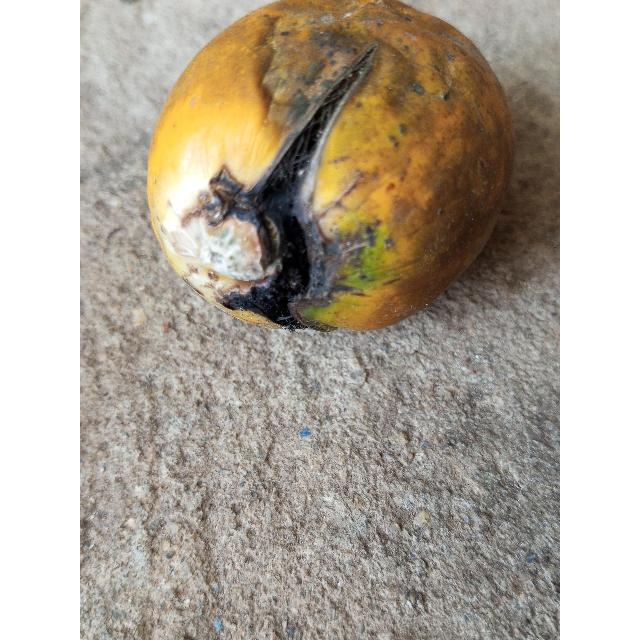damaged: (144, 0, 515, 335)
